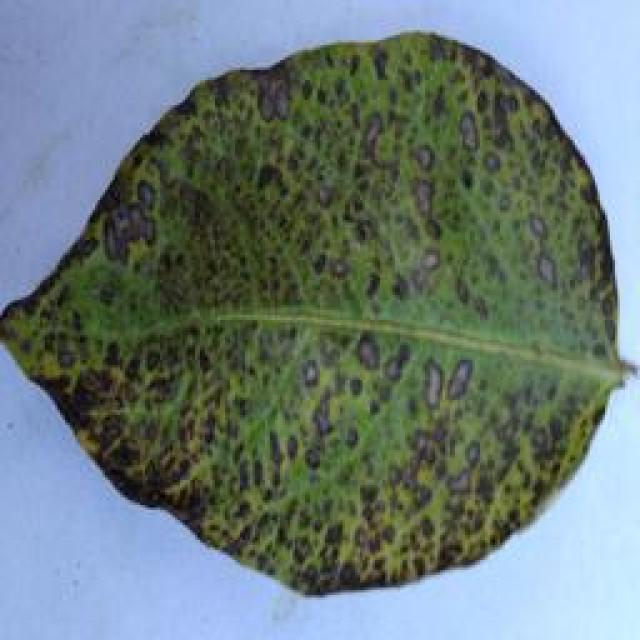Potato_Early_Blight: (3, 11, 630, 630)
